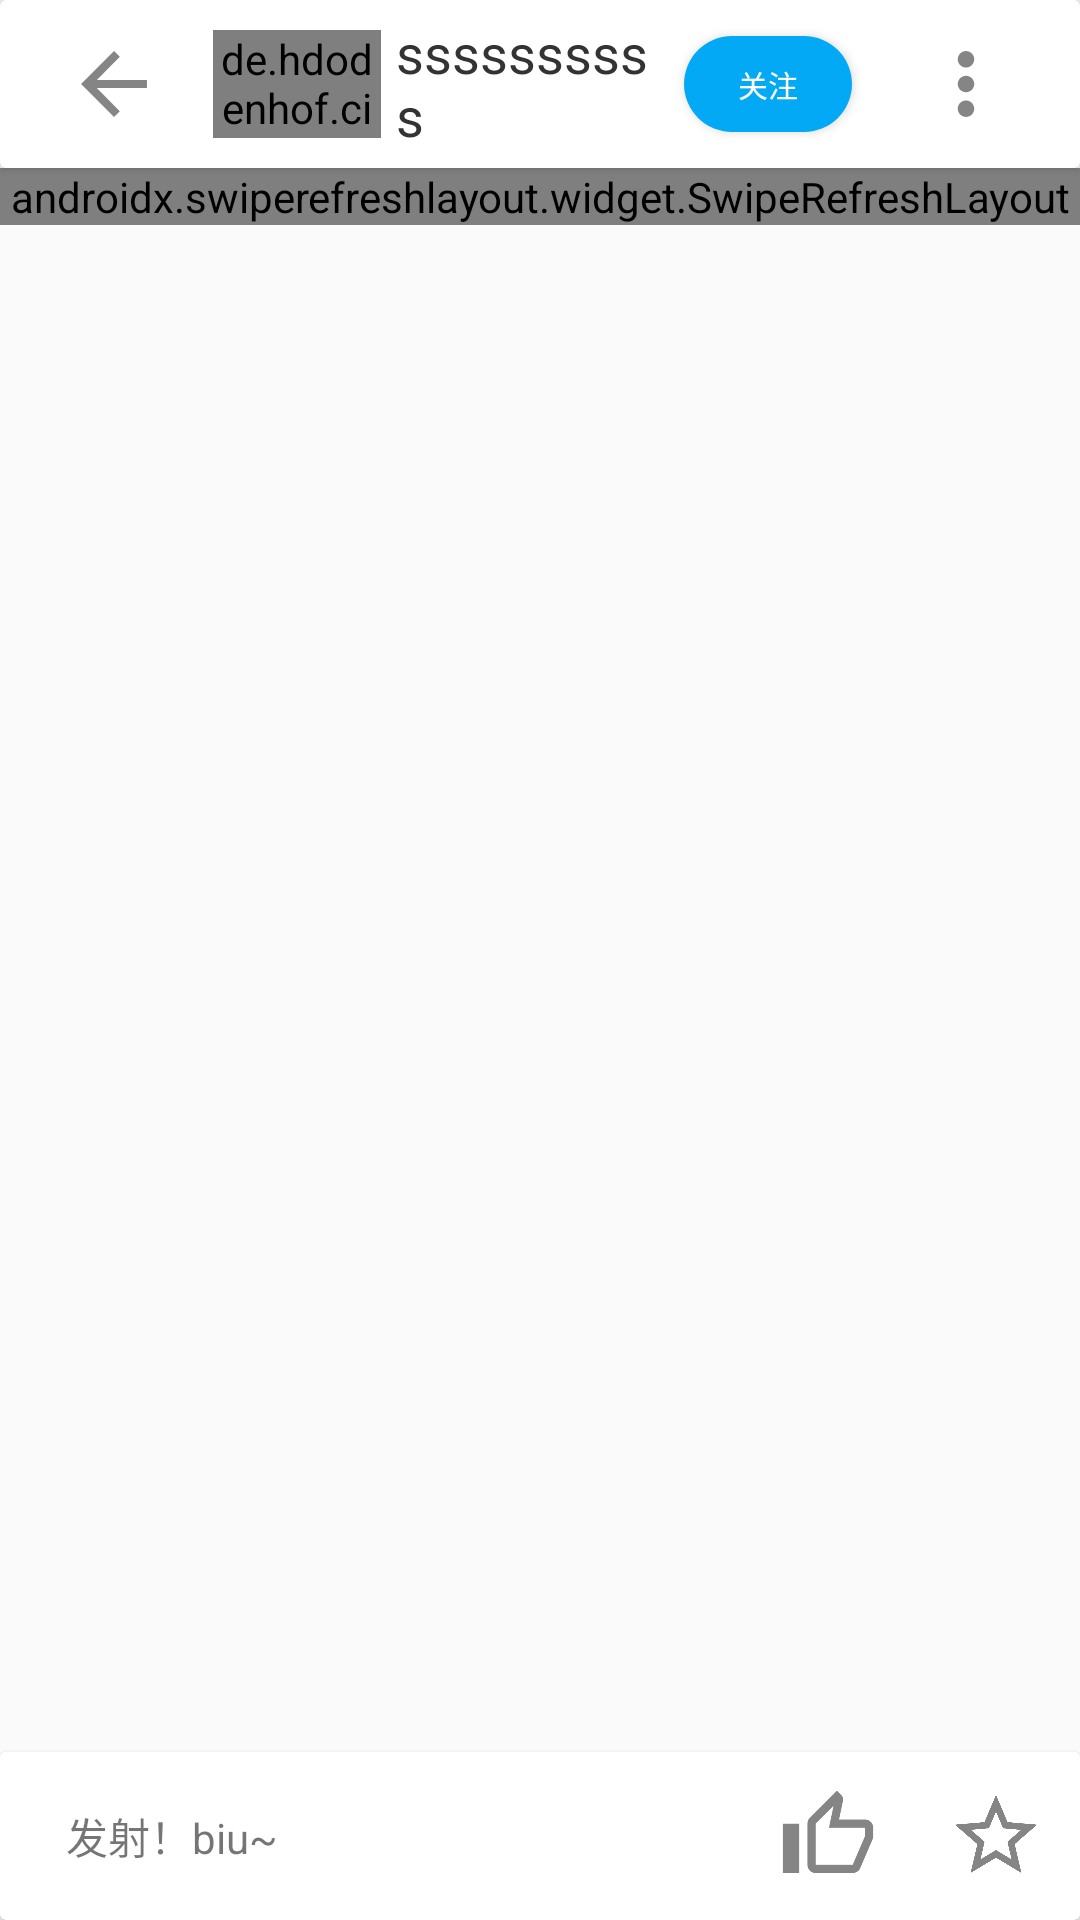

Point at icon controls on the screen. Image size 1080×1920, points as [x,y].
back: [114,84]
more: [966,84]
post star: [1018,1858]
post thumb: [828,1832]
